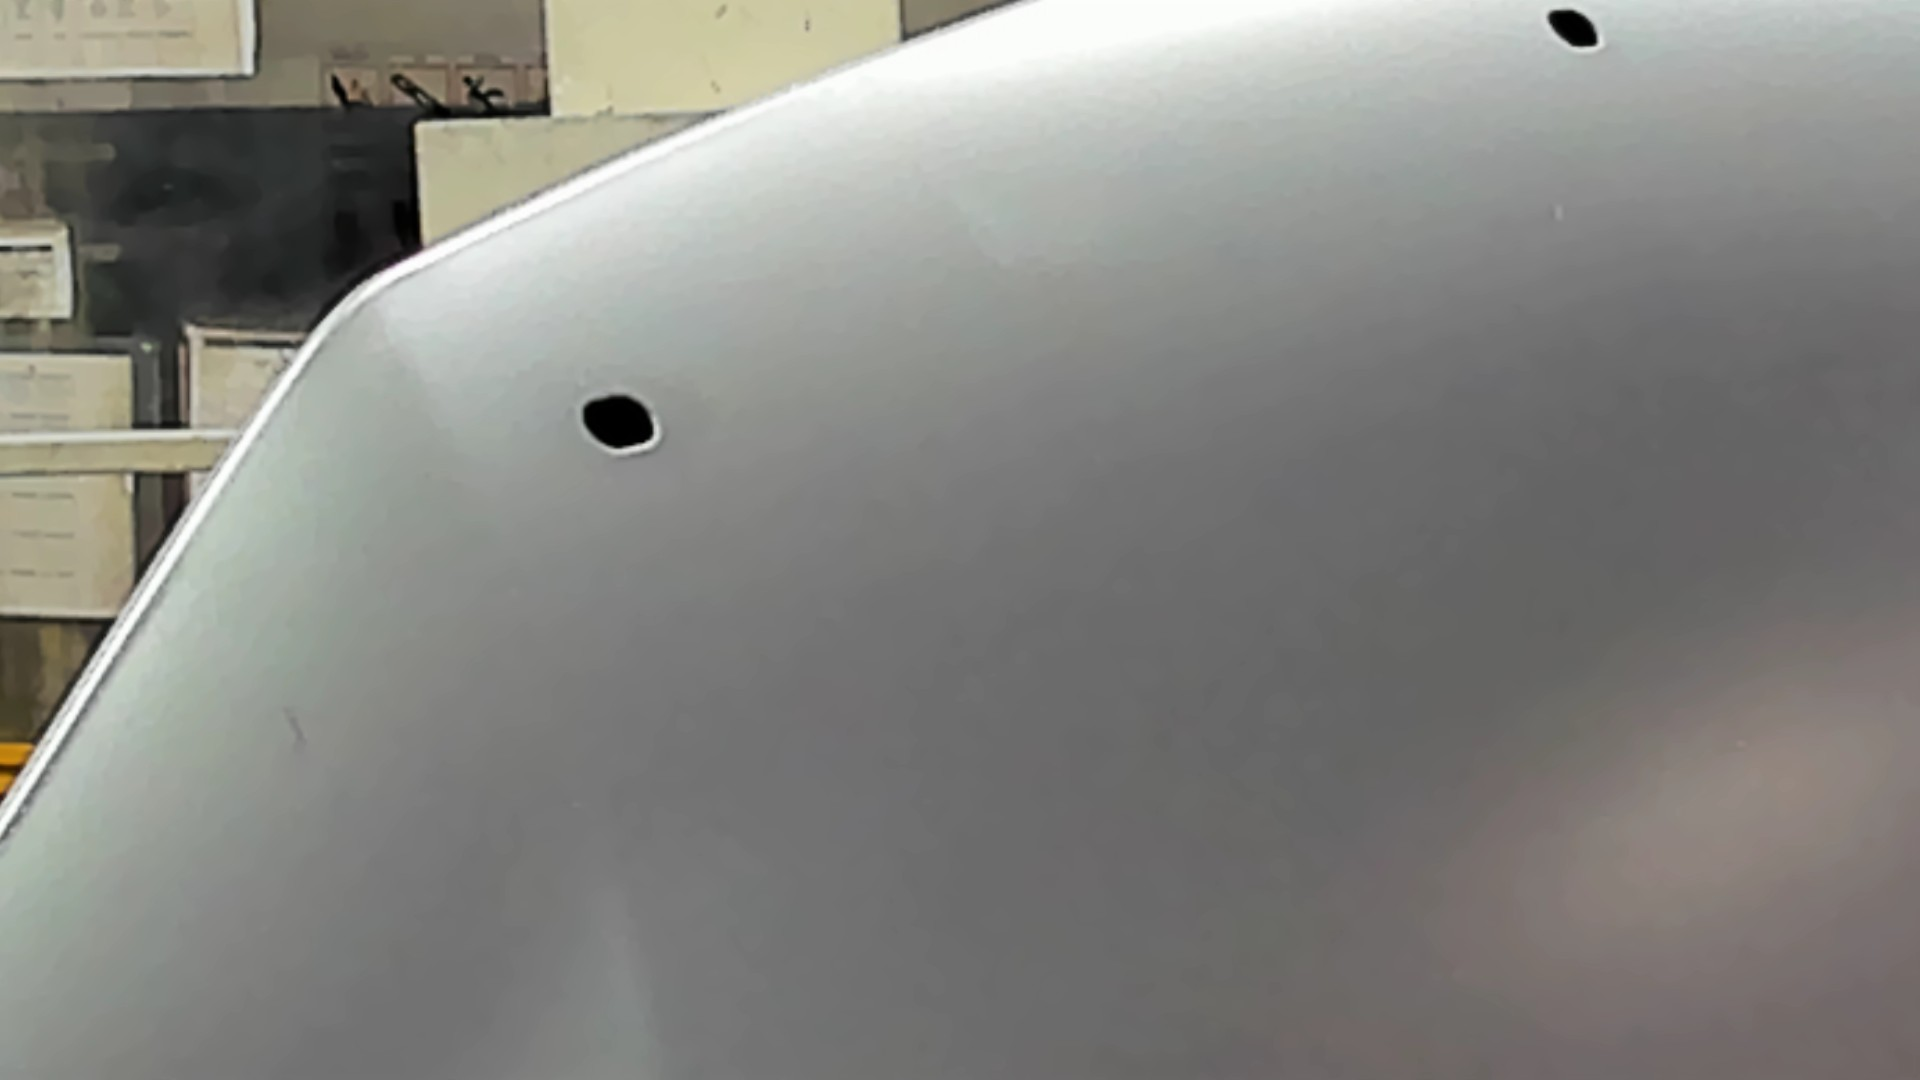amorfo: (575, 388, 665, 455), (1539, 3, 1606, 58)
